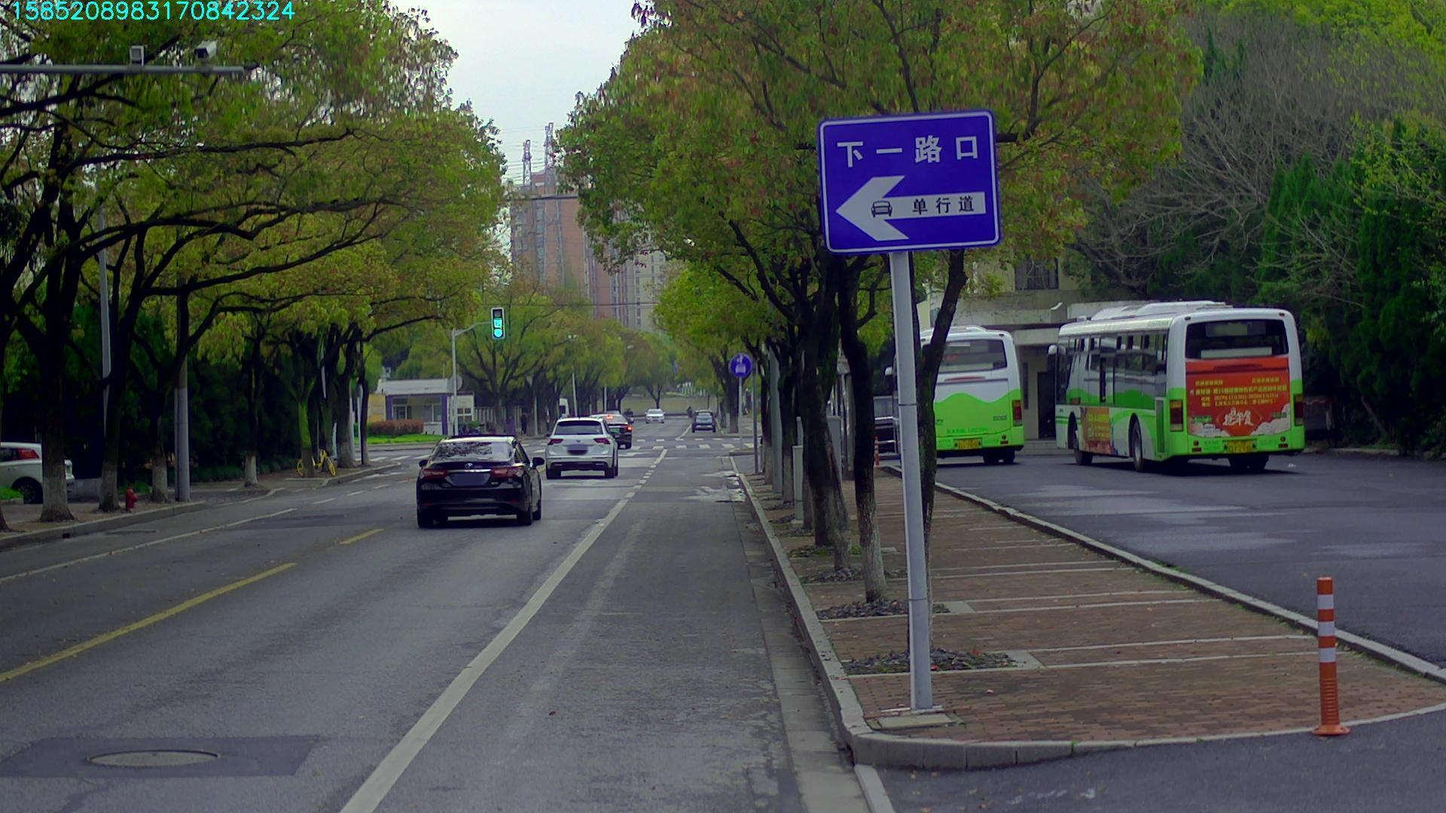green: (491, 308, 503, 338)
